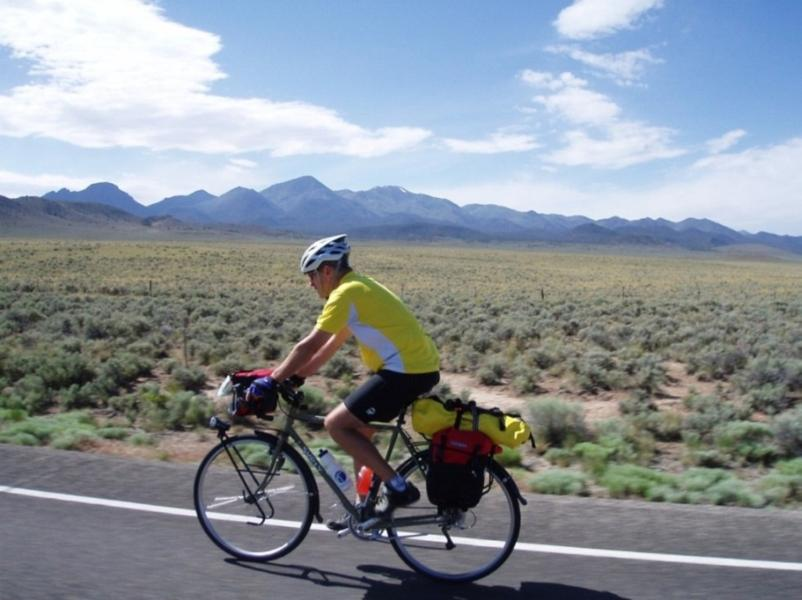person: (247, 231, 442, 527)
